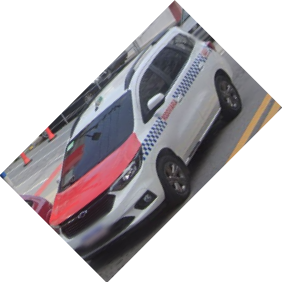car: (48, 25, 242, 257)
